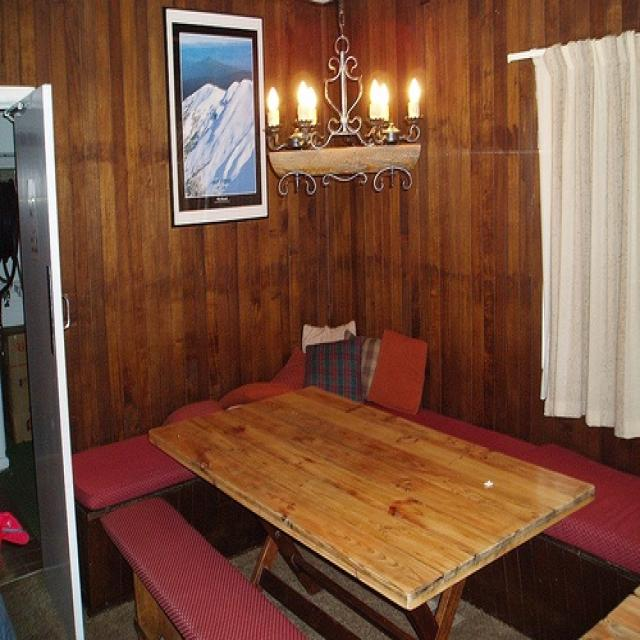diningtable: (146, 380, 600, 639)
